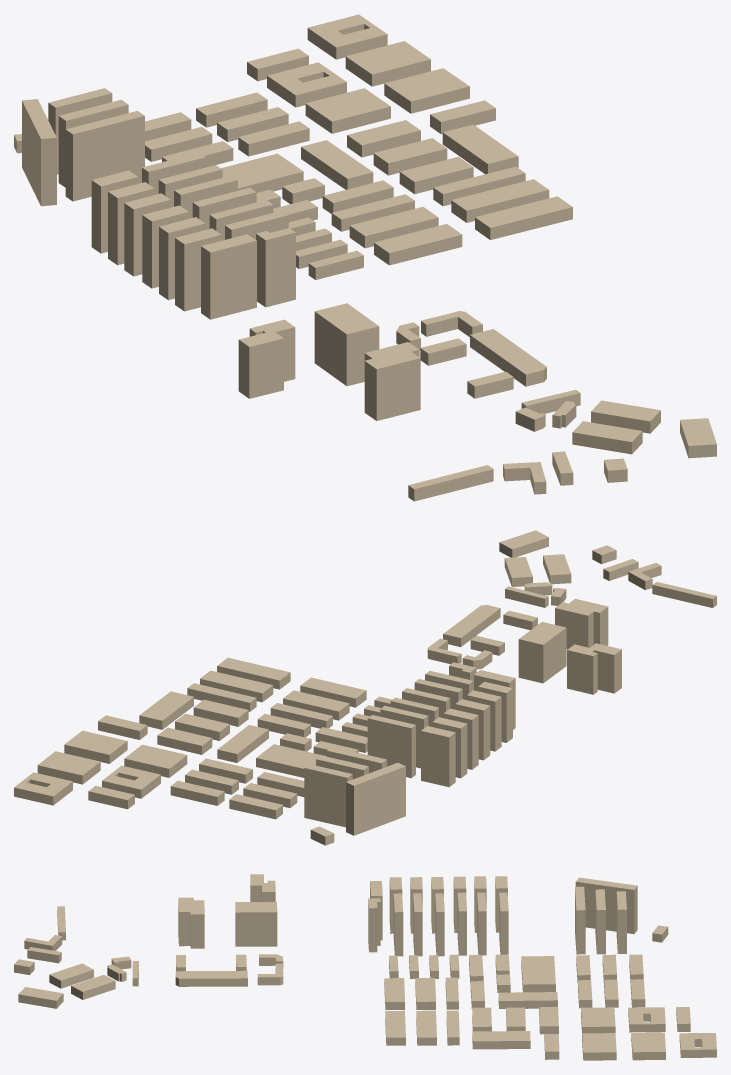
File: -17_10-estimated-coarse.glb
The picture shows the model from 3 angles, top to bottom: view 1: azimuth 30°, elevation 25°; view 2: azimuth 150°, elevation 25°; view 3: azimuth 270°, elevation 25°; orthographic projection. The views are drawn at different scales.
Size of the model in its own units: 487 by 66 by 950.
